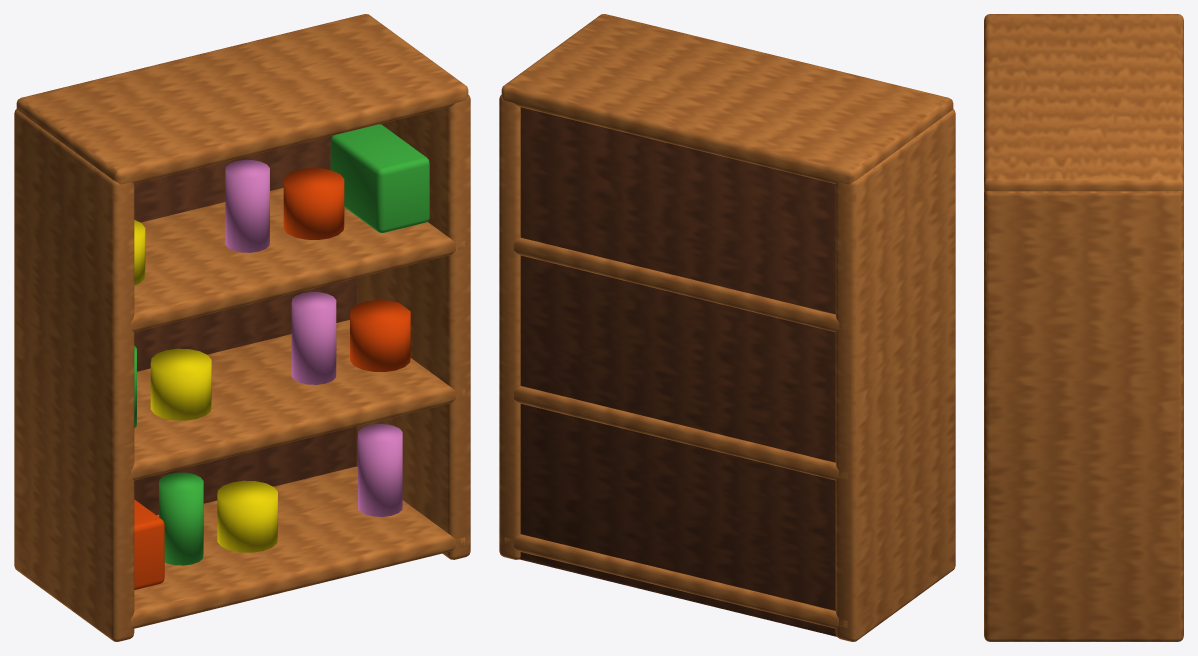
The model's file is shelf_goods.glb.
The picture shows the model from 3 angles, left to right: view 1: azimuth 30°, elevation 25°; view 2: azimuth 150°, elevation 25°; view 3: azimuth 270°, elevation 25°; orthographic projection. The views are drawn at different scales.
Visible parts, largest first — view 1: side, board.003, side.001, board.001, board, board.002, back, box.001, Cylinder.004, Cylinder.009, Cylinder.005, Cylinder.001 (+6 smaller); view 2: back, side, board.003, side.001, board, board.001, board.002; view 3: side.001, board.003.
Part boxes in pixels (x1=…): side: x1=14, y1=109, x2=134, y2=641; board.003: x1=16, y1=14, x2=468, y2=184; side.001: x1=356, y1=95, x2=470, y2=559; board.001: x1=122, y1=320, x2=465, y2=480; board: x1=122, y1=466, x2=465, y2=628; board.002: x1=122, y1=188, x2=465, y2=332; back: x1=134, y1=135, x2=356, y2=515; box.001: x1=330, y1=124, x2=429, y2=232; Cylinder.004: x1=150, y1=348, x2=211, y2=420; Cylinder.009: x1=283, y1=168, x2=344, y2=239; Cylinder.005: x1=291, y1=292, x2=336, y2=384; Cylinder.001: x1=217, y1=480, x2=277, y2=552; back: x1=519, y1=107, x2=836, y2=636; side: x1=835, y1=109, x2=955, y2=641; board.003: x1=501, y1=14, x2=953, y2=184; side.001: x1=499, y1=95, x2=520, y2=559; board: x1=504, y1=534, x2=847, y2=628; board.001: x1=505, y1=386, x2=847, y2=480; board.002: x1=507, y1=238, x2=847, y2=332; side.001: x1=984, y1=191, x2=1183, y2=641; board.003: x1=984, y1=14, x2=1183, y2=191.
Bounding box in the file's own units: 0.405 × 0.51 × 0.2.
8 materials, 2 textured.
